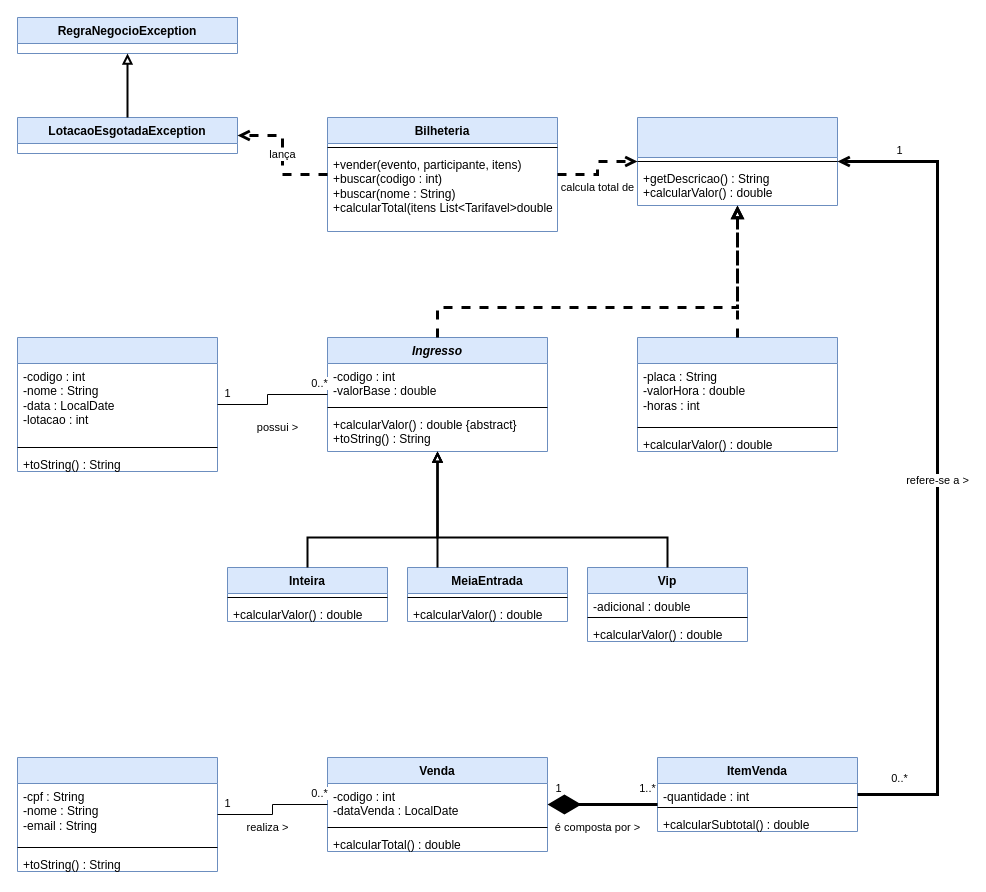
The diagram is 986 pixels wide and 892 high, and some of its shapes have lost their labels. The box of each missing label's shape, as (x1, y1, x2, y2) in pixels:
Estacionamento: (636, 336, 838, 452)
Evento: (16, 336, 218, 472)
Participante: (16, 756, 218, 872)
«interface» Tarifavel: (636, 116, 838, 206)
